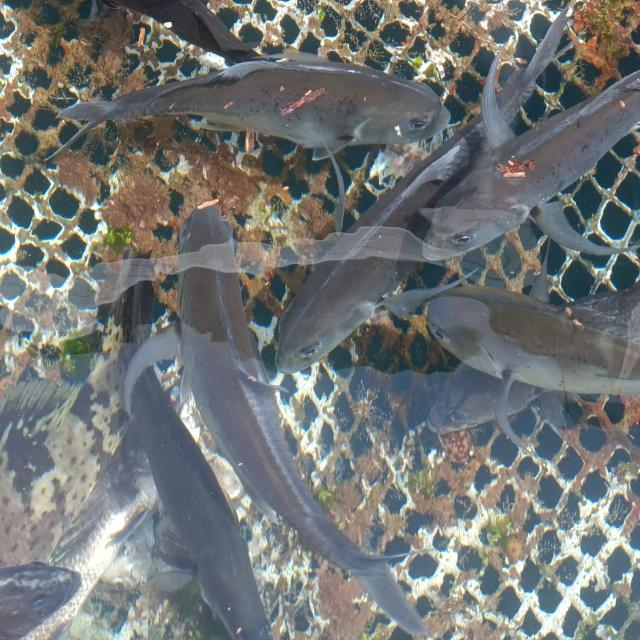ikan: (102, 195, 429, 636), (272, 3, 581, 376), (43, 50, 453, 230), (120, 341, 274, 639), (425, 278, 639, 488), (417, 66, 639, 263)
